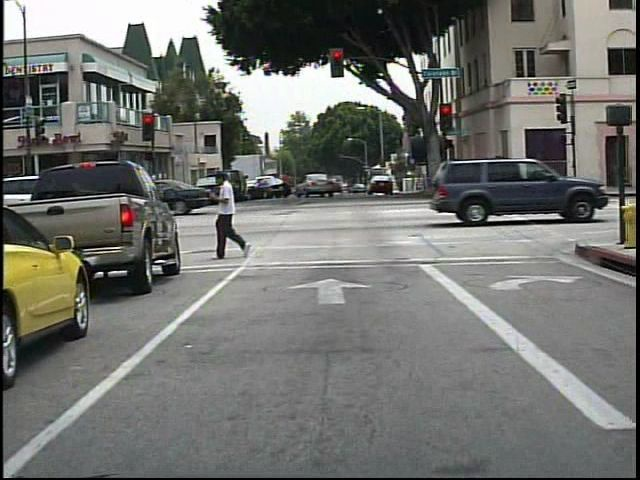person: (210, 167, 255, 262), (278, 164, 297, 207)
